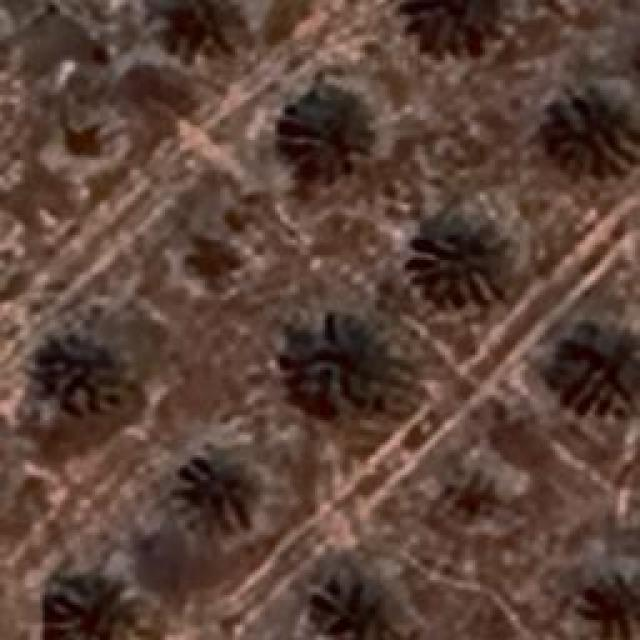PalmTree: (297, 312, 405, 406), (410, 215, 508, 303), (280, 87, 375, 175), (550, 80, 638, 172), (560, 320, 638, 412), (397, 0, 505, 65), (178, 448, 260, 528), (45, 570, 145, 635), (311, 570, 401, 640), (32, 325, 108, 405), (160, 0, 252, 55), (578, 568, 638, 638)
